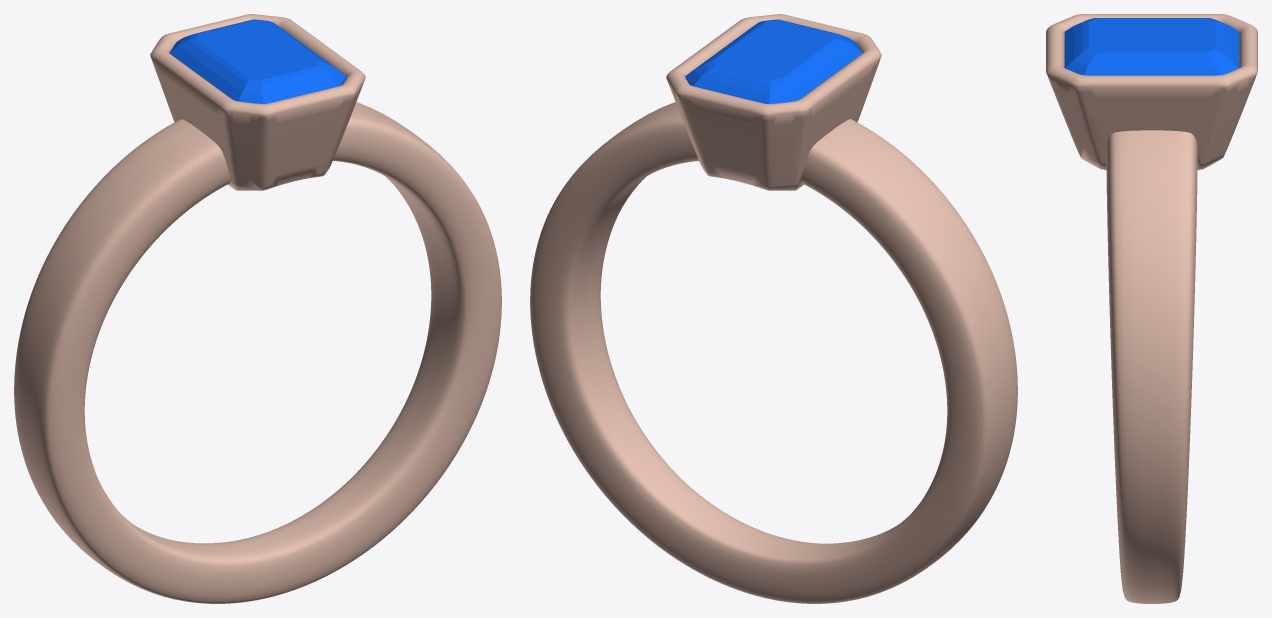
Rendered from bluesapphire-emerald-rosegold-bezelset-straighttaperedband-solitaire.glb.
3 renders of one model, left to right at view 1: azimuth 30°, elevation 25°; view 2: azimuth 150°, elevation 25°; view 3: azimuth 270°, elevation 25°, orthographic.
Parts seen in each view (by area): view 1: metal.001, stone; view 2: metal.001, stone; view 3: metal.001, stone.
Part boxes in pixels (x1=…): metal.001: x1=14, y1=14, x2=501, y2=603; stone: x1=169, y1=19, x2=346, y2=103; metal.001: x1=530, y1=14, x2=1017, y2=603; stone: x1=685, y1=19, x2=862, y2=103; metal.001: x1=1046, y1=14, x2=1257, y2=603; stone: x1=1064, y1=18, x2=1239, y2=75.
Size of the model in its own units: 20.49 by 22.95 by 8.11.
